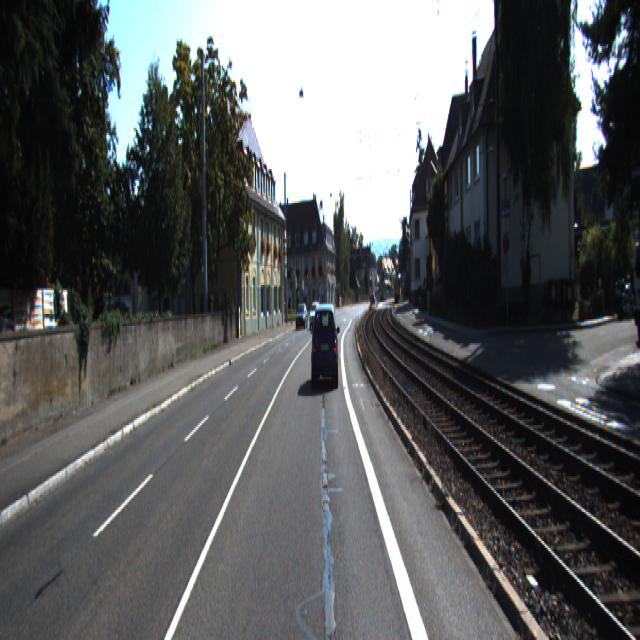Car: (310, 302, 340, 393), (309, 302, 322, 329), (296, 306, 308, 331)
